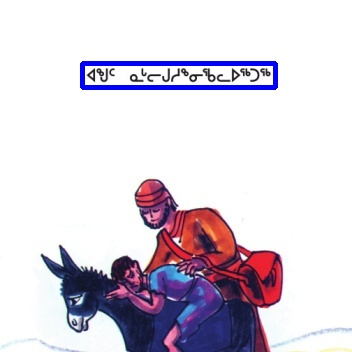inuktitut: (82, 63, 275, 87)
